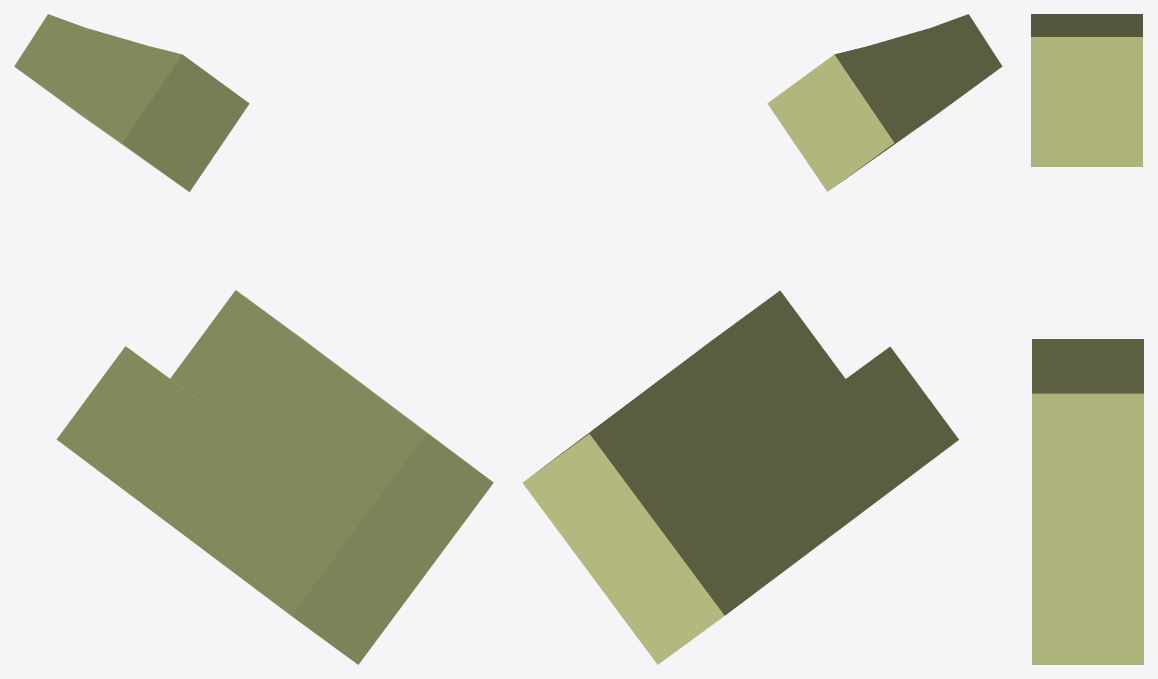
3 views of the same model, side by side, from view 1: azimuth 30°, elevation 25°; view 2: azimuth 150°, elevation 25°; view 3: azimuth 270°, elevation 25° (orthographic). The views are drawn at different scales.
Parts seen in each view (by area): view 1: 0_1_2_0_1_3_0_2_2; view 2: 0_1_2_0_1_3_0_2_2; view 3: 0_1_2_0_1_3_0_2_2.
Boxes of the visible parts, x1=… form: 0_1_2_0_1_3_0_2_2: x1=14, y1=14, x2=493, y2=664; 0_1_2_0_1_3_0_2_2: x1=522, y1=14, x2=1002, y2=664; 0_1_2_0_1_3_0_2_2: x1=1031, y1=14, x2=1143, y2=664.
Bounding box in the file's own units: 31.95 × 48.91 × 9.07.
